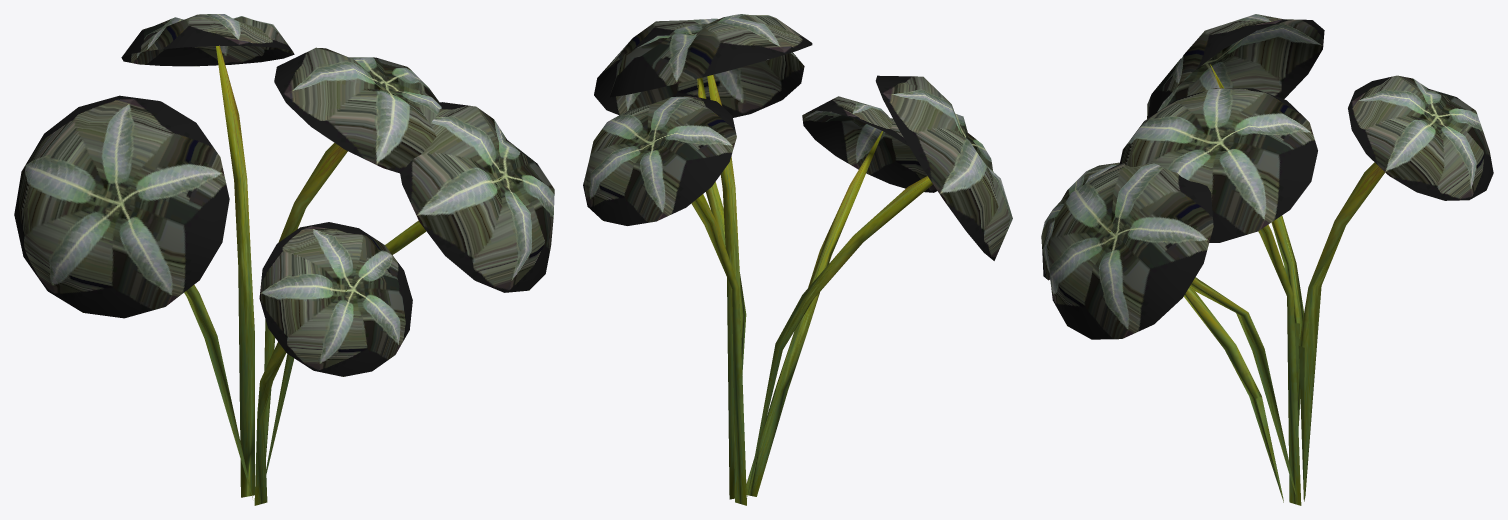
The model's file is plant l.fbx.
3 views of the same model, side by side, from view 1: azimuth 30°, elevation 25°; view 2: azimuth 150°, elevation 25°; view 3: azimuth 270°, elevation 25° (orthographic). The views are drawn at different scales.
Parts seen in each view (by area): view 1: plant_l_Form25, plant_l_plant_l; view 2: plant_l_Form25, plant_l_plant_l; view 3: plant_l_Form25, plant_l_plant_l.
Boxes of the visible parts, left/top/right/bottom form: plant_l_Form25: left=14, top=14, right=554, bottom=376; plant_l_plant_l: left=110, top=46, right=502, bottom=505; plant_l_Form25: left=583, top=14, right=1012, bottom=260; plant_l_plant_l: left=691, top=74, right=932, bottom=505; plant_l_Form25: left=1041, top=14, right=1493, bottom=339; plant_l_plant_l: left=1108, top=64, right=1384, bottom=505.
Size of the model in its own units: 46.52 by 44.12 by 42.19.
Materials: 2 (2 with a texture image).
